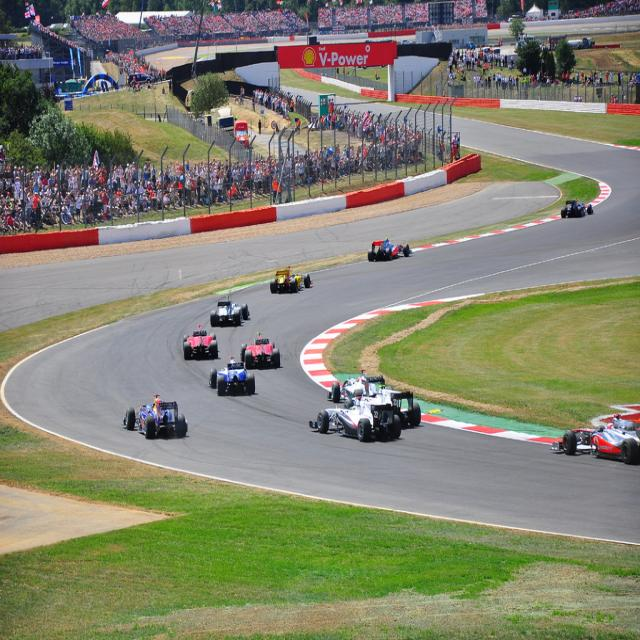car: (328, 372, 416, 427), (553, 414, 639, 461), (117, 392, 187, 440), (207, 356, 253, 396), (240, 329, 280, 365), (210, 290, 249, 322), (180, 326, 220, 357), (366, 238, 413, 264), (270, 262, 308, 290), (560, 195, 590, 215)
